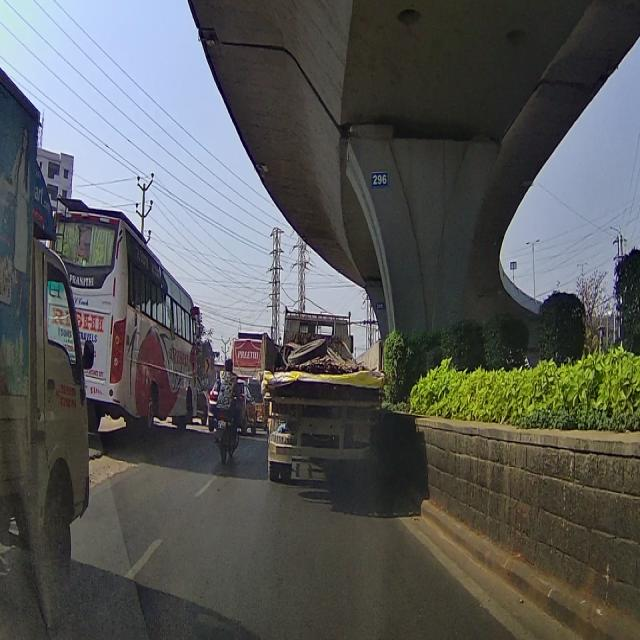right-hand-curve: (203, 355, 211, 374)
